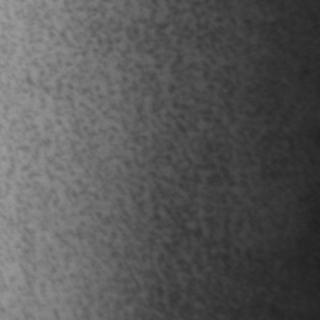pitted_surface: (41, 2, 300, 318)
